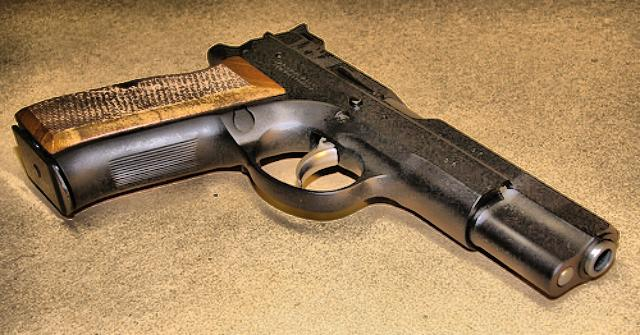pistol: (10, 22, 618, 292)
